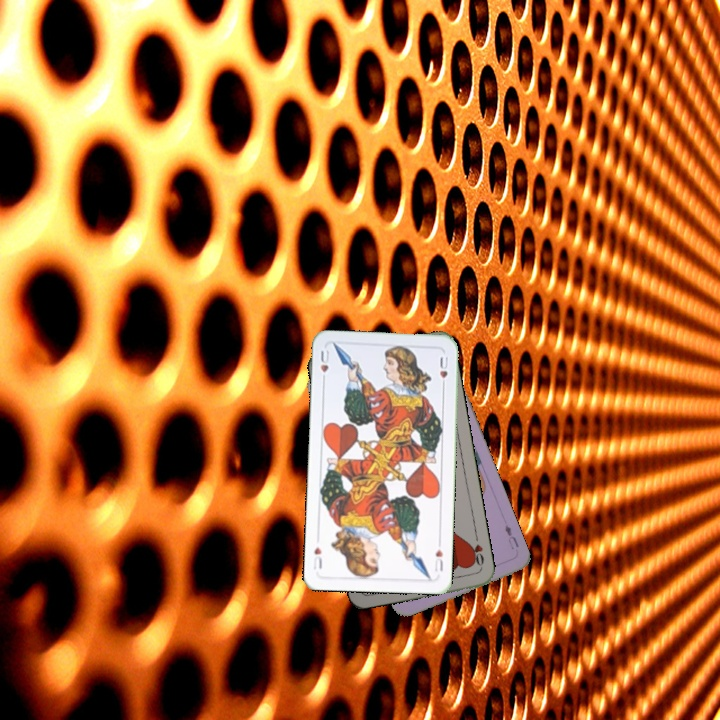EU: (500, 521, 521, 552)
HO: (465, 531, 486, 571)
HU: (316, 346, 332, 385), (430, 545, 445, 574)
